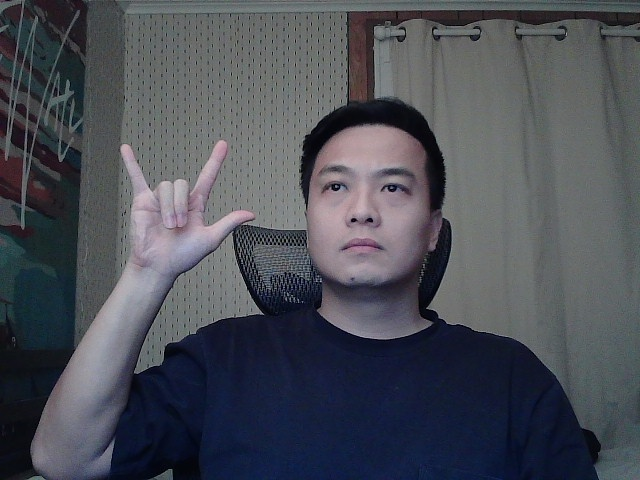I Love You: (100, 134, 266, 290)
